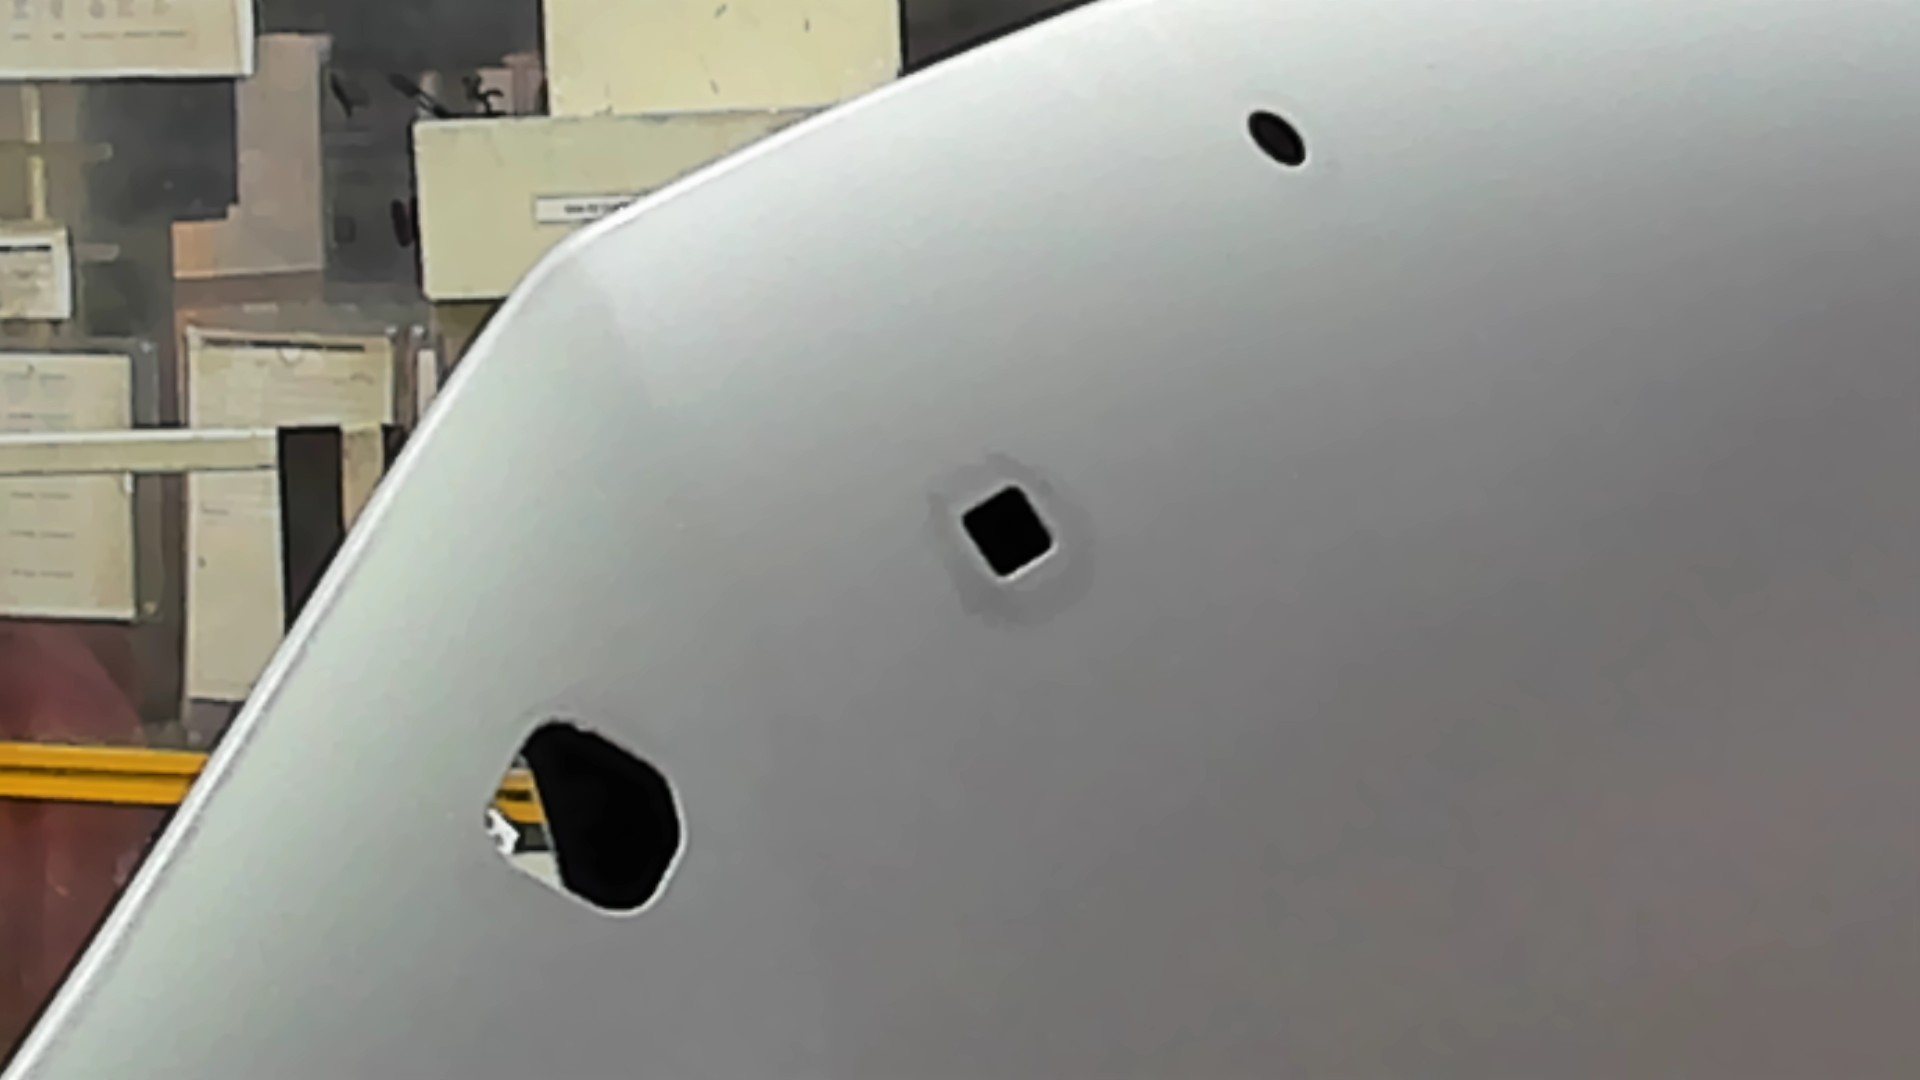capo: (1065, 178, 1920, 1080)
chico: (1242, 103, 1309, 174)
grande: (477, 713, 692, 922)
mediano: (955, 481, 1064, 591)
